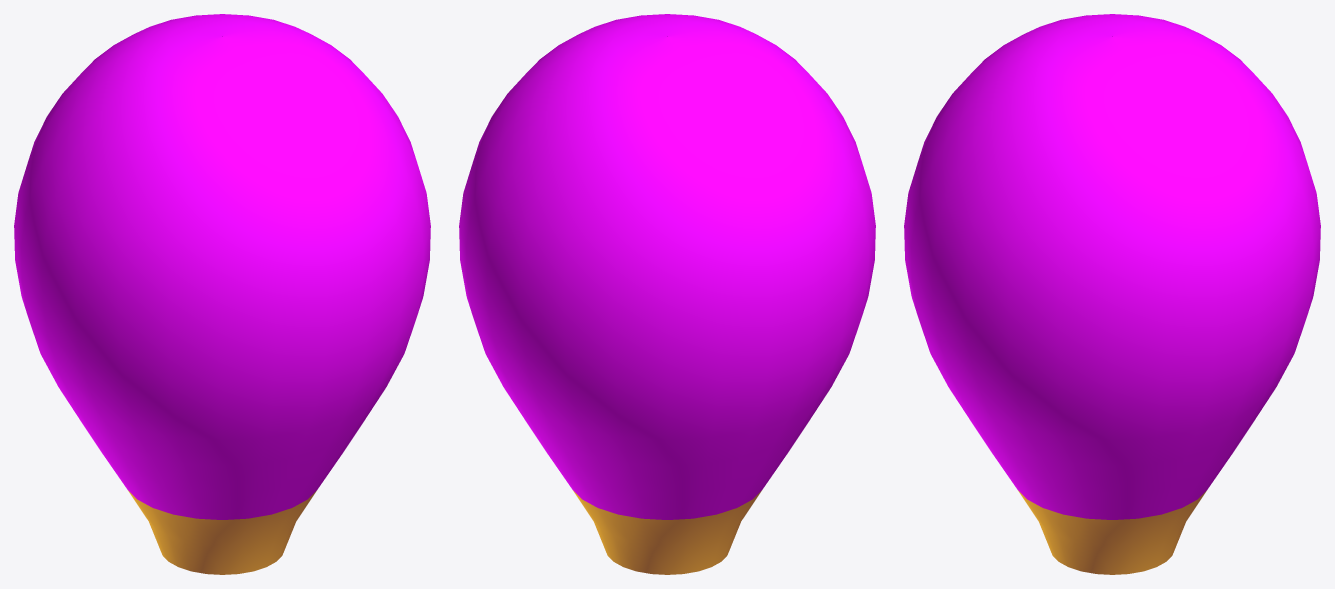
Rendered from balloonMagenta.gltf.
3 renders of one model, left to right at view 1: azimuth 30°, elevation 25°; view 2: azimuth 150°, elevation 25°; view 3: azimuth 270°, elevation 25°, orthographic.
Visible parts, largest first — view 1: balloonMagentaEnvelope; view 2: balloonMagentaEnvelope; view 3: balloonMagentaEnvelope.
Part boxes in pixels (x1,y1,x2,y2): balloonMagentaEnvelope: [14, 14, 430, 574]; balloonMagentaEnvelope: [459, 14, 875, 574]; balloonMagentaEnvelope: [904, 14, 1320, 574].
Bounding box in the file's own units: 6.9 × 9.34 × 6.9.
1 material, 1 textured.
